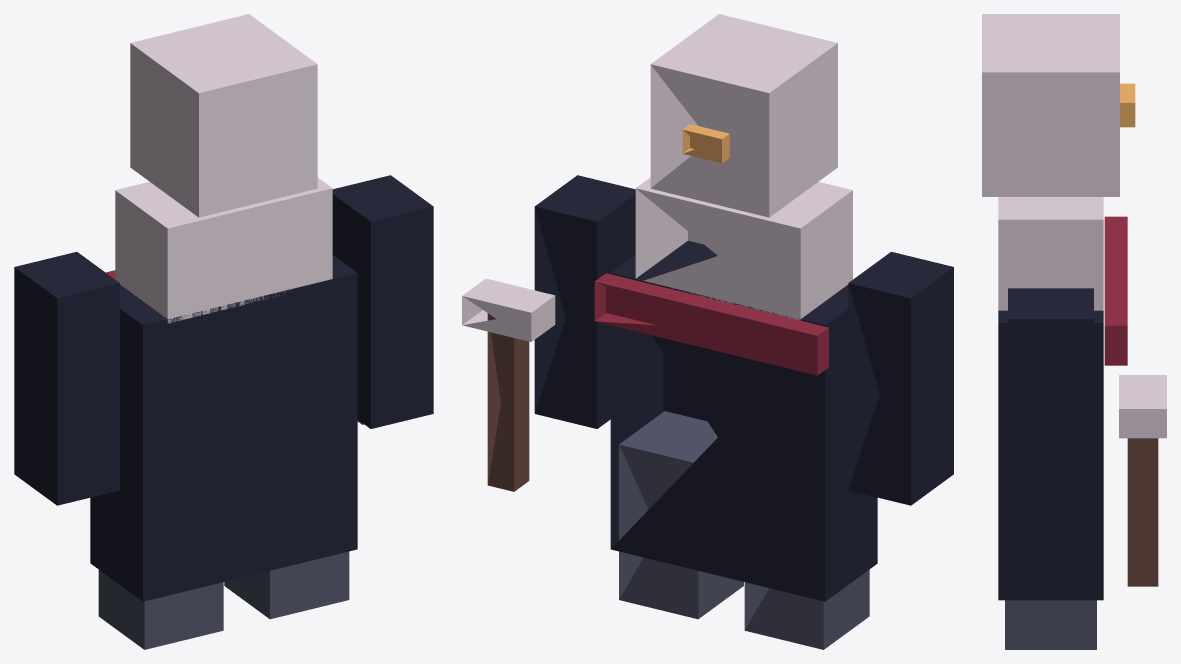
The model's file is KGB_NPC_DojoMentor_STATIC_DRAFT_v02.obj.
The picture shows the model from 3 angles, left to right: view 1: azimuth 30°, elevation 25°; view 2: azimuth 150°, elevation 25°; view 3: azimuth 270°, elevation 25°; orthographic projection.
Parts seen in each view (by area): view 1: DojoMentor; view 2: DojoMentor; view 3: DojoMentor.
Part boxes in pixels (x1,y1,x2,y2): DojoMentor: (14,14,433,649); DojoMentor: (462,14,953,649); DojoMentor: (982,14,1166,649).
Size of the model in its own units: 2.5 by 3.21 by 0.965.
